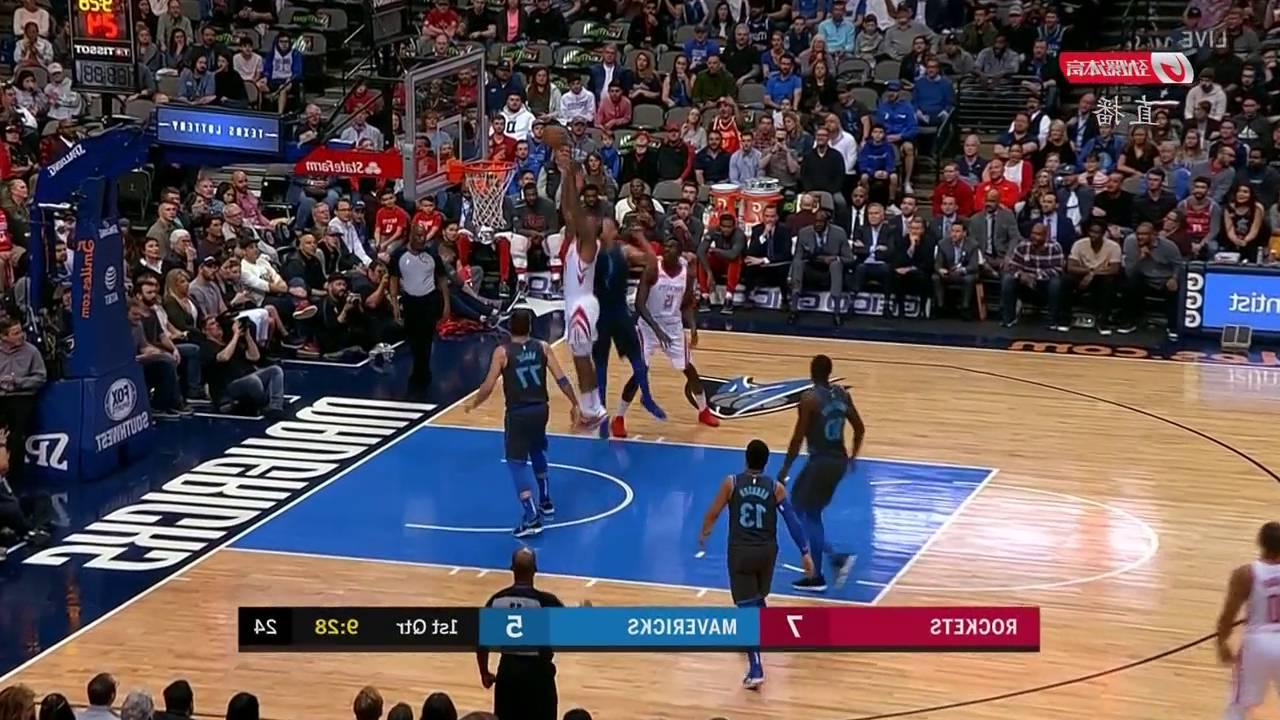basketball: (538, 123, 566, 153)
